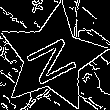N_NE: (20, 28, 84, 87)
